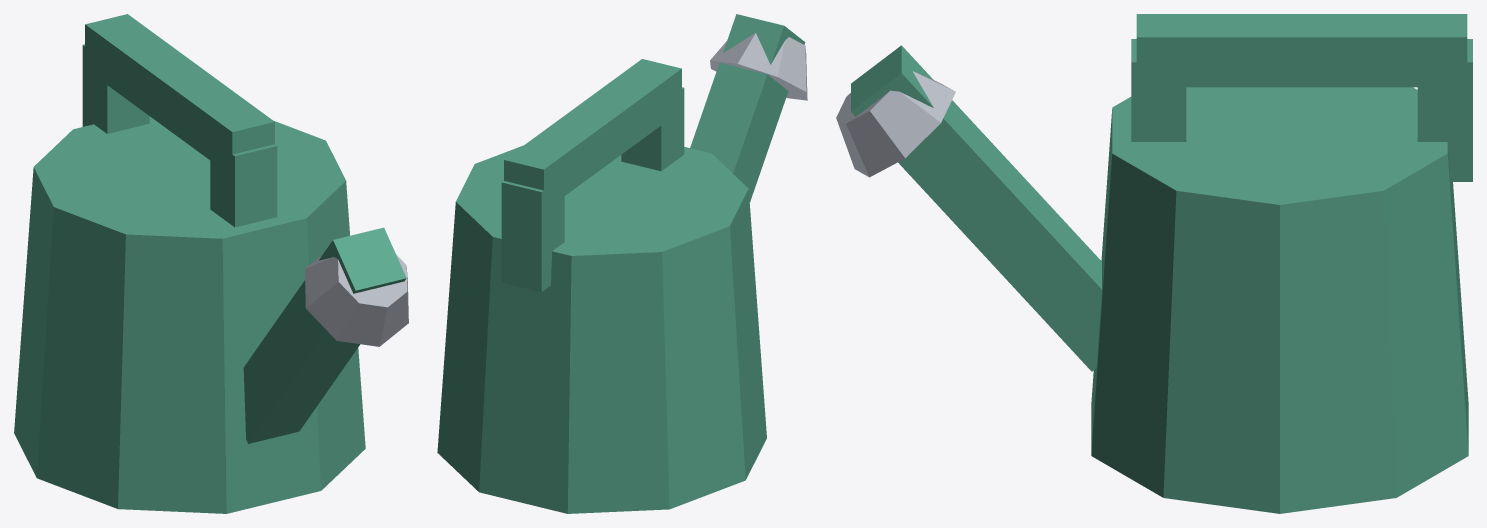
The model's file is watering_can.obj.
The picture shows the model from 3 angles, left to right: view 1: azimuth 30°, elevation 25°; view 2: azimuth 150°, elevation 25°; view 3: azimuth 270°, elevation 25°; orthographic projection. The views are drawn at different scales.
Visible parts, largest first — view 1: item; view 2: item; view 3: item.
Boxes of the visible parts, left/top/right/bottom form: item: left=14, top=14, right=408, bottom=513; item: left=437, top=14, right=807, bottom=513; item: left=836, top=14, right=1472, bottom=513.
Bounding box in the file's own units: 0.36 × 0.405 × 0.5778.
